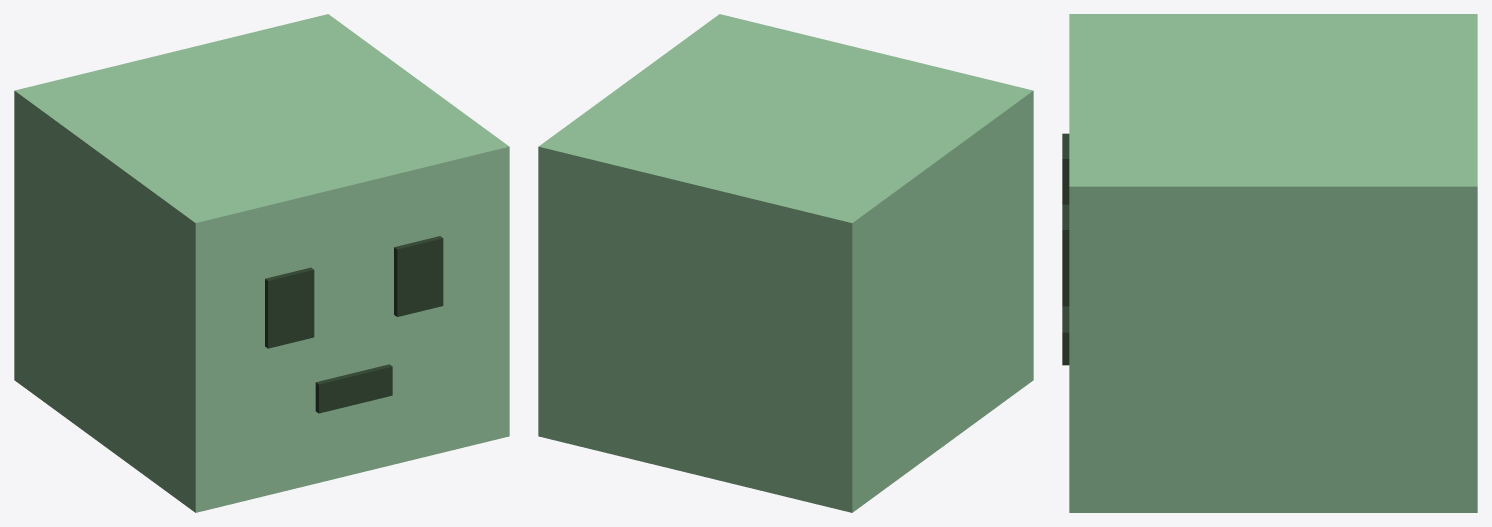
Rendered from blob.glb.
3 views of the same model, side by side, from view 1: azimuth 30°, elevation 25°; view 2: azimuth 150°, elevation 25°; view 3: azimuth 270°, elevation 25° (orthographic). The views are drawn at different scales.
Bounding box in the file's own units: 0.34 × 0.3 × 0.346.
